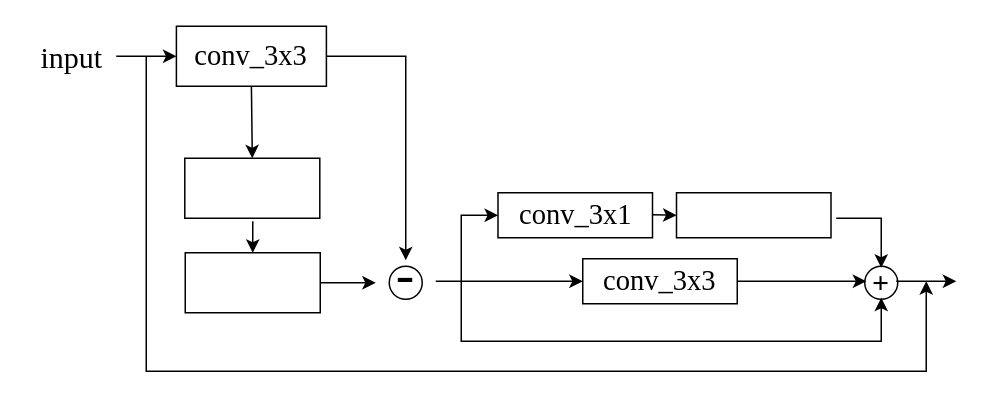
Image size: 995x410. Some labels were removed from this diagram. The shapes that lost their labels are listed below. From the top down, each one's centre as x and y in pixels, then its label:
point 251,187: avg_pool
point 753,214: conv_1x3
point 252,282: upsample
